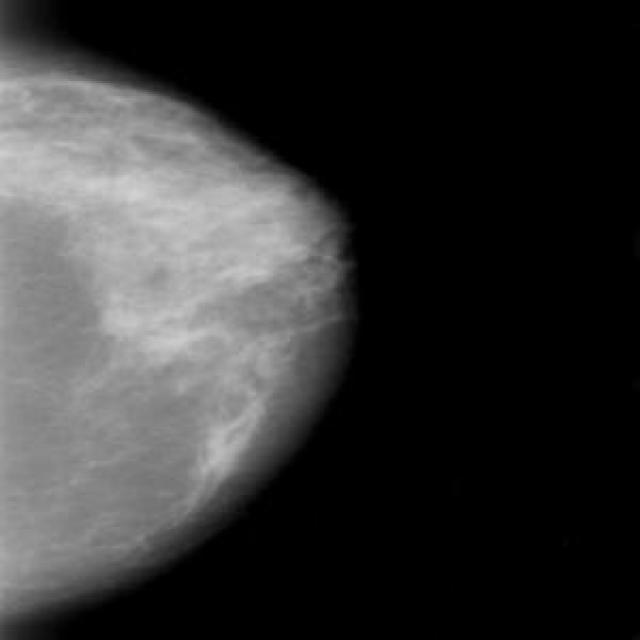tumor: (80, 170, 317, 356)
